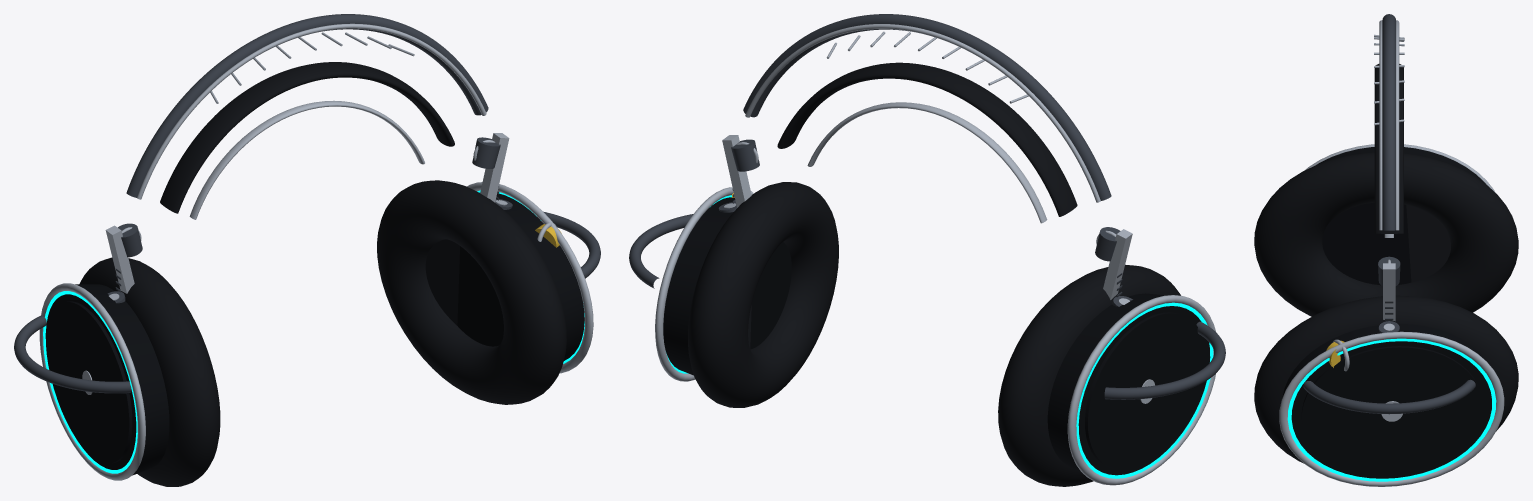
Rendered from nx-01-aura-headphones.glb.
3 renders of one model, left to right at view 1: azimuth 30°, elevation 25°; view 2: azimuth 150°, elevation 25°; view 3: azimuth 270°, elevation 25°, orthographic. The views are drawn at different scales.
Visible parts, largest first — view 1: Right_EarCup, Left_EarCup, Headband_Comfort_Canopy, Headband_Titanium_Arch, Left_Assembly, Headband_Structural_Rail_2, Headband_Top_Crown_Plate, Right_Assembly, Left_Slider_Blade, Right_Slider_Blade; view 2: Left_EarCup, Right_EarCup, Headband_Comfort_Canopy, Headband_Titanium_Arch, Left_Assembly, Headband_Structural_Rail_1, Headband_Top_Crown_Plate, Right_Assembly, Left_Slider_Blade, Right_Slider_Blade; view 3: Right_EarCup, Left_EarCup, Headband_Titanium_Arch, Right_Assembly, Headband_Comfort_Canopy, Headband_Structural_Rail_2, Headband_Structural_Rail_1, Right_Slider_Blade.
Boxes of the visible parts, left/top/right/bottom form: Right_EarCup: left=377, top=180, right=593, bottom=404; Left_EarCup: left=39, top=257, right=220, bottom=486; Headband_Comfort_Canopy: left=160, top=62, right=454, bottom=213; Headband_Titanium_Arch: left=126, top=14, right=488, bottom=197; Left_Assembly: left=14, top=223, right=142, bottom=393; Headband_Structural_Rail_2: left=137, top=23, right=486, bottom=199; Headband_Top_Crown_Plate: left=189, top=100, right=424, bottom=219; Right_Assembly: left=472, top=137, right=600, bottom=278; Left_Slider_Blade: left=105, top=225, right=134, bottom=293; Right_Slider_Blade: left=480, top=133, right=509, bottom=202; Left_EarCup: left=998, top=264, right=1215, bottom=486; Right_EarCup: left=655, top=182, right=838, bottom=407; Headband_Comfort_Canopy: left=777, top=62, right=1077, bottom=216; Headband_Titanium_Arch: left=743, top=14, right=1111, bottom=200; Left_Assembly: left=1095, top=227, right=1225, bottom=399; Headband_Structural_Rail_1: left=745, top=24, right=1100, bottom=202; Headband_Top_Crown_Plate: left=807, top=102, right=1047, bottom=223; Right_Assembly: left=629, top=139, right=759, bottom=288; Left_Slider_Blade: left=1103, top=229, right=1132, bottom=299; Right_Slider_Blade: left=722, top=135, right=751, bottom=207; Right_EarCup: left=1254, top=295, right=1518, bottom=486; Left_EarCup: left=1254, top=144, right=1518, bottom=316; Headband_Titanium_Arch: left=1382, top=14, right=1395, bottom=230; Right_Assembly: left=1303, top=256, right=1475, bottom=414; Headband_Comfort_Canopy: left=1374, top=64, right=1403, bottom=233; Headband_Structural_Rail_2: left=1379, top=20, right=1382, bottom=230; Headband_Structural_Rail_1: left=1396, top=20, right=1399, bottom=230; Right_Slider_Blade: left=1383, top=263, right=1395, bottom=321.
Size of the model in its own units: 3.31 by 2.31 by 1.49.
